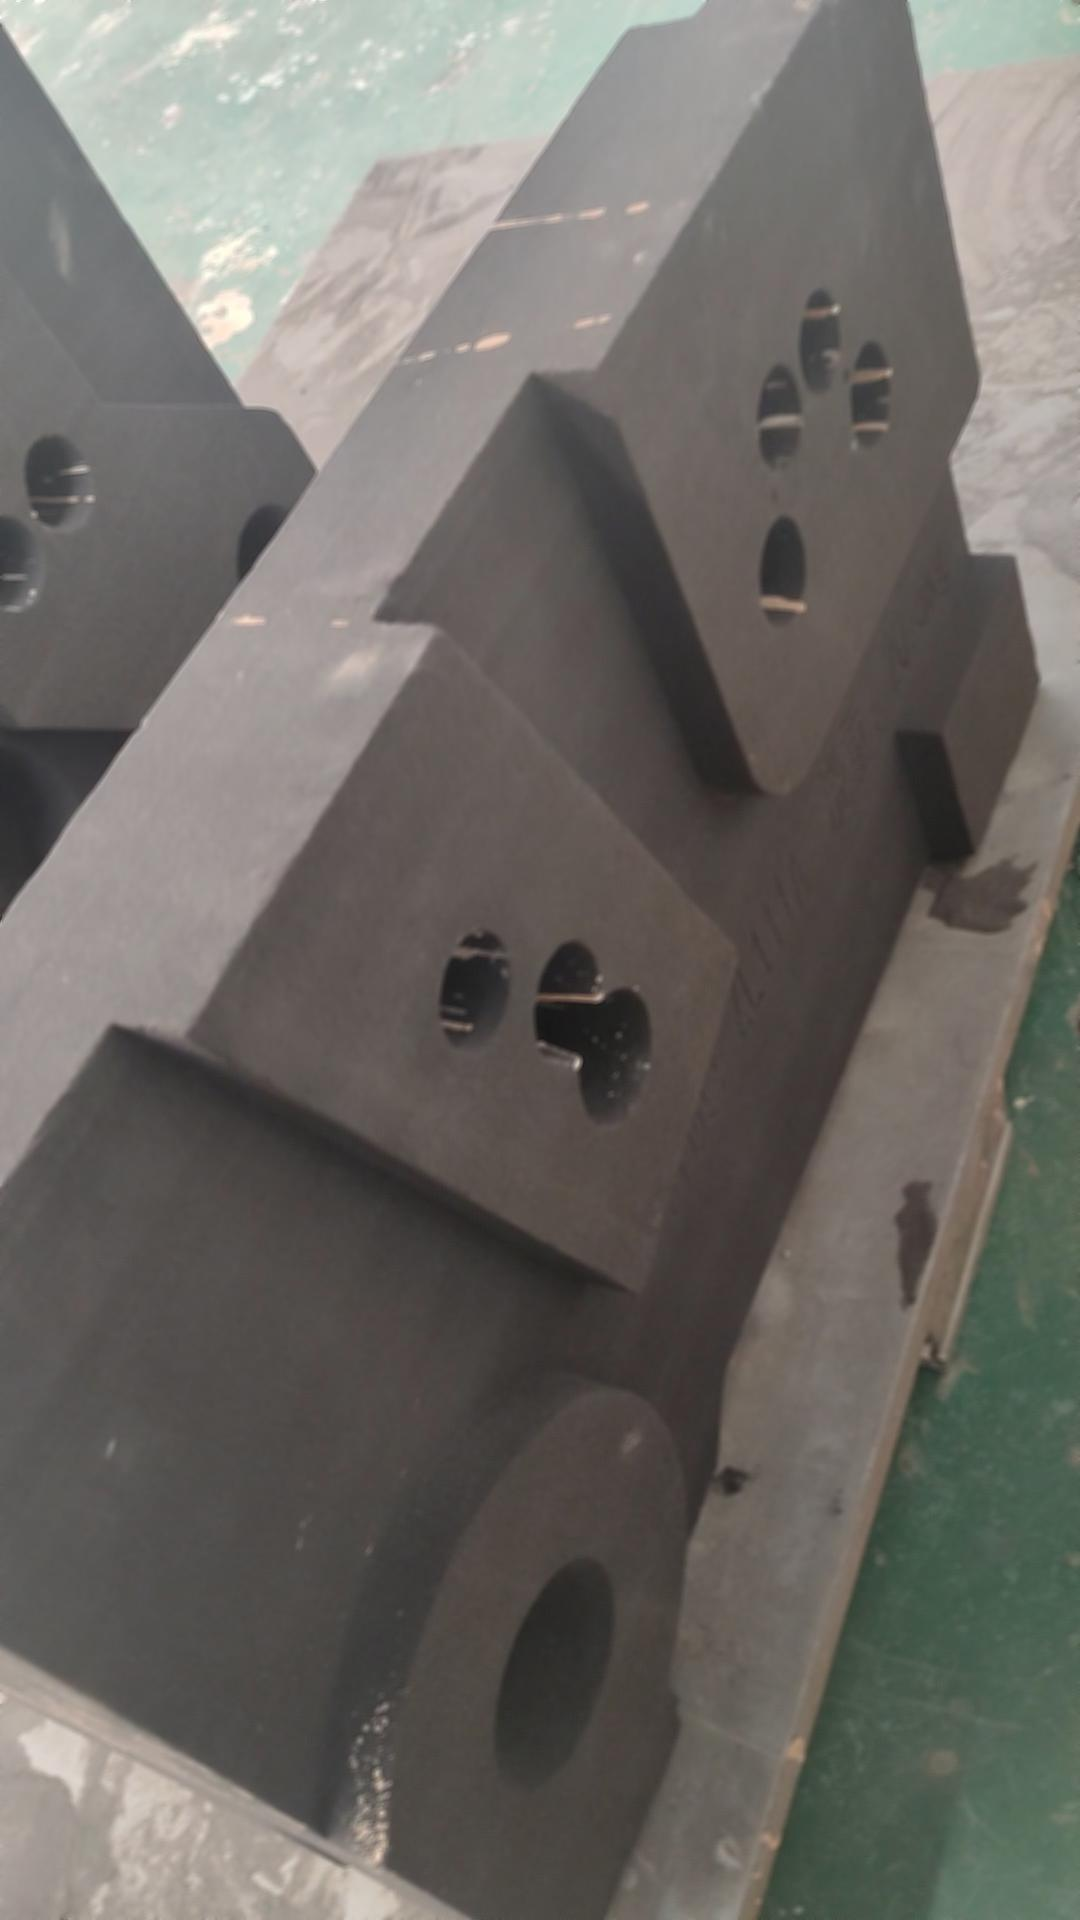pouring hole: (493, 1552, 620, 1796), (233, 502, 309, 618)
